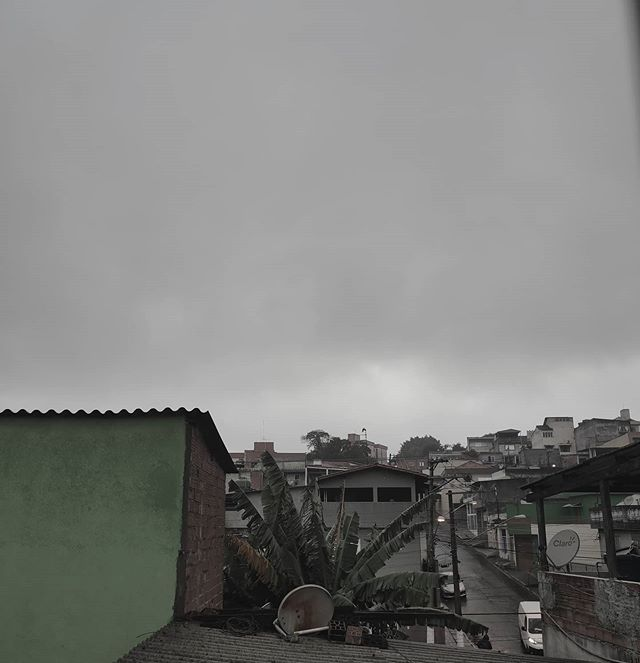building: (1, 423, 220, 663), (278, 454, 428, 646), (524, 472, 640, 663), (450, 447, 565, 572), (547, 415, 633, 475), (460, 427, 539, 474)
sky: (1, 1, 632, 411)
tree: (237, 496, 417, 640), (395, 420, 442, 462), (293, 421, 348, 455)
